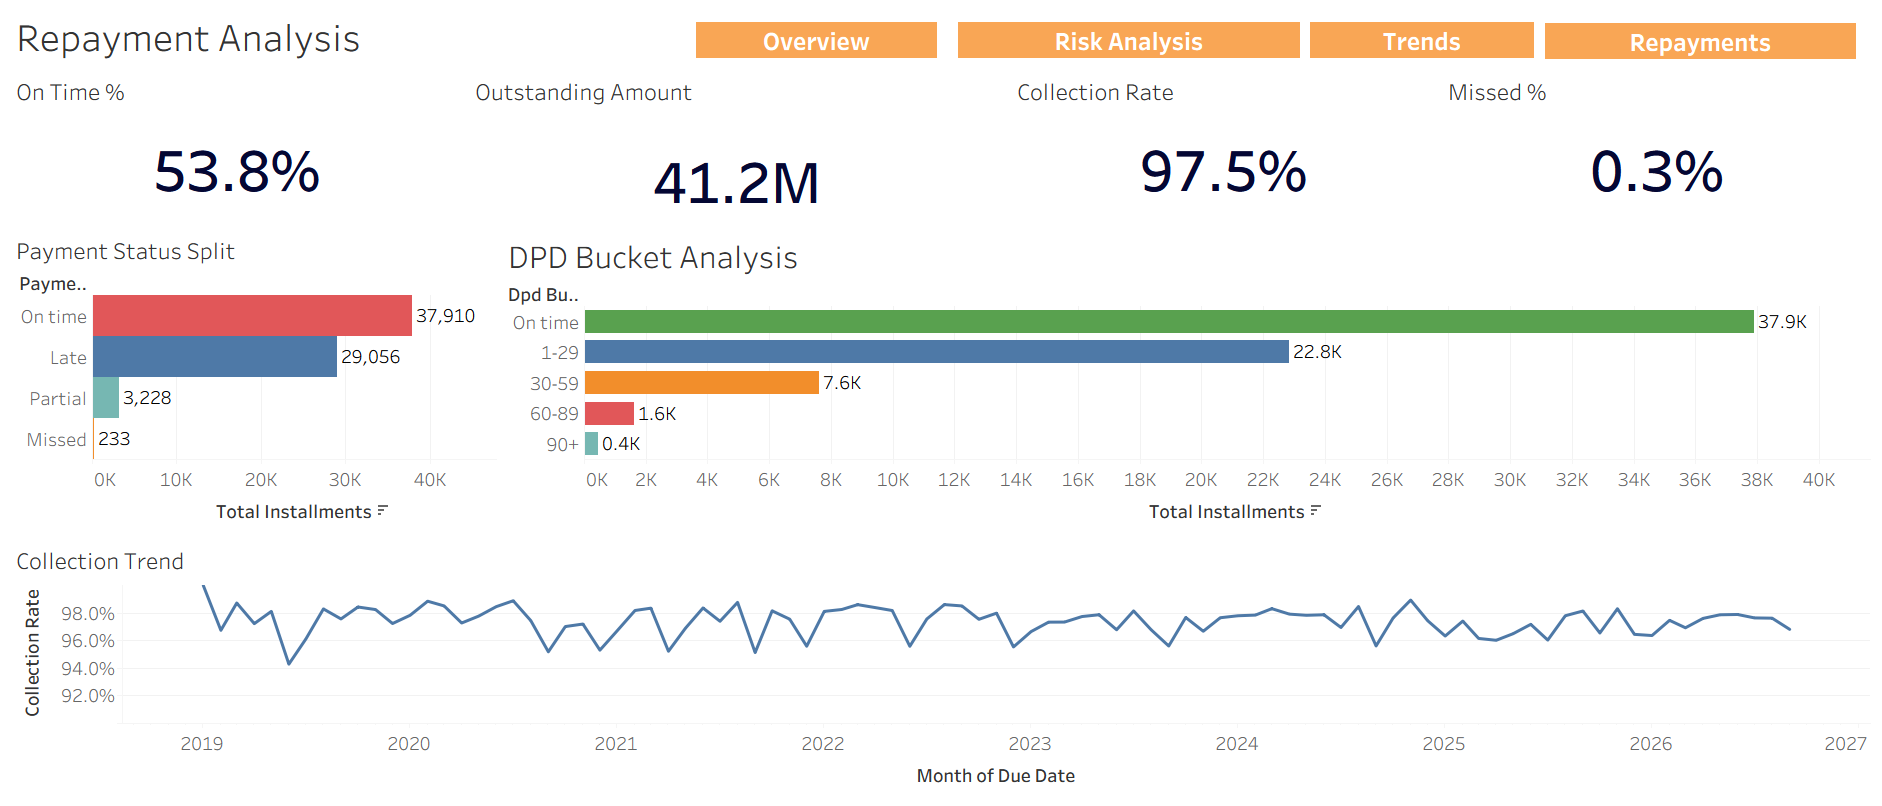

The dashboard page shown, as its layout file describes it:
{"tool":"tableau","page":{"name":"Repayments","canvas":[1000,800],"ordinal":1},"visuals":[{"type":"title","box":[8,8,984,58]},{"type":"dashboard-object","box":[370,22,128,36]},{"type":"dashboard-object","box":[509,22,182,36]},{"type":"dashboard-object","box":[696,22,119,36]},{"type":"dashboard-object","box":[821,23,165,36]},{"type":"worksheet","title":"KPI  On Time %","mark":"Text","box":[8,66,242,158]},{"type":"worksheet","title":"KPI  Outstanding Amount","mark":"Text","box":[250,66,286,158]},{"type":"worksheet","title":"KPI  Collection Rate","mark":"Text","box":[536,66,227,158]},{"type":"worksheet","title":"KPI  Missed %","mark":"Text","box":[763,66,229,158]},{"type":"worksheet","title":"Payment Status Split","mark":"Bar","rows":["payment_status"],"cols":["Calculation_0920897718042632"],"box":[8,224,492,306.9]},{"type":"worksheet","title":"DPD Bucket Analysis","mark":"Automatic","rows":["dpd_bucket"],"cols":["Calculation_0920897718042632"],"box":[500,224,492,306.9]},{"type":"worksheet","title":"Collection Trend","mark":"Line","rows":["Calculation_0920897719586831"],"cols":["due_date"],"box":[8,530.9,984,261.1]}]}

Visuals, with their boxes on the page's 1000x800 design canvas (x1, y1, x2, y2). These are canvas units, not pixel positions in the 1882x806 screenshot, which may show the page scaled, cropped or inside an application window:
title: left=8, top=8, right=992, bottom=66
dashboard-object: left=370, top=22, right=498, bottom=58
dashboard-object: left=509, top=22, right=691, bottom=58
dashboard-object: left=696, top=22, right=815, bottom=58
dashboard-object: left=821, top=23, right=986, bottom=59
"KPI  On Time %" worksheet (Text marks): left=8, top=66, right=250, bottom=224
"KPI  Outstanding Amount" worksheet (Text marks): left=250, top=66, right=536, bottom=224
"KPI  Collection Rate" worksheet (Text marks): left=536, top=66, right=763, bottom=224
"KPI  Missed %" worksheet (Text marks): left=763, top=66, right=992, bottom=224
"Payment Status Split" worksheet (Bar marks): left=8, top=224, right=500, bottom=531
"DPD Bucket Analysis" worksheet: left=500, top=224, right=992, bottom=531
"Collection Trend" worksheet (Line marks): left=8, top=531, right=992, bottom=792
